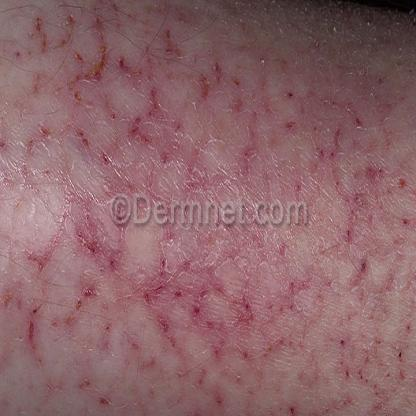Eczema: (32, 220, 416, 416), (12, 4, 416, 172)
